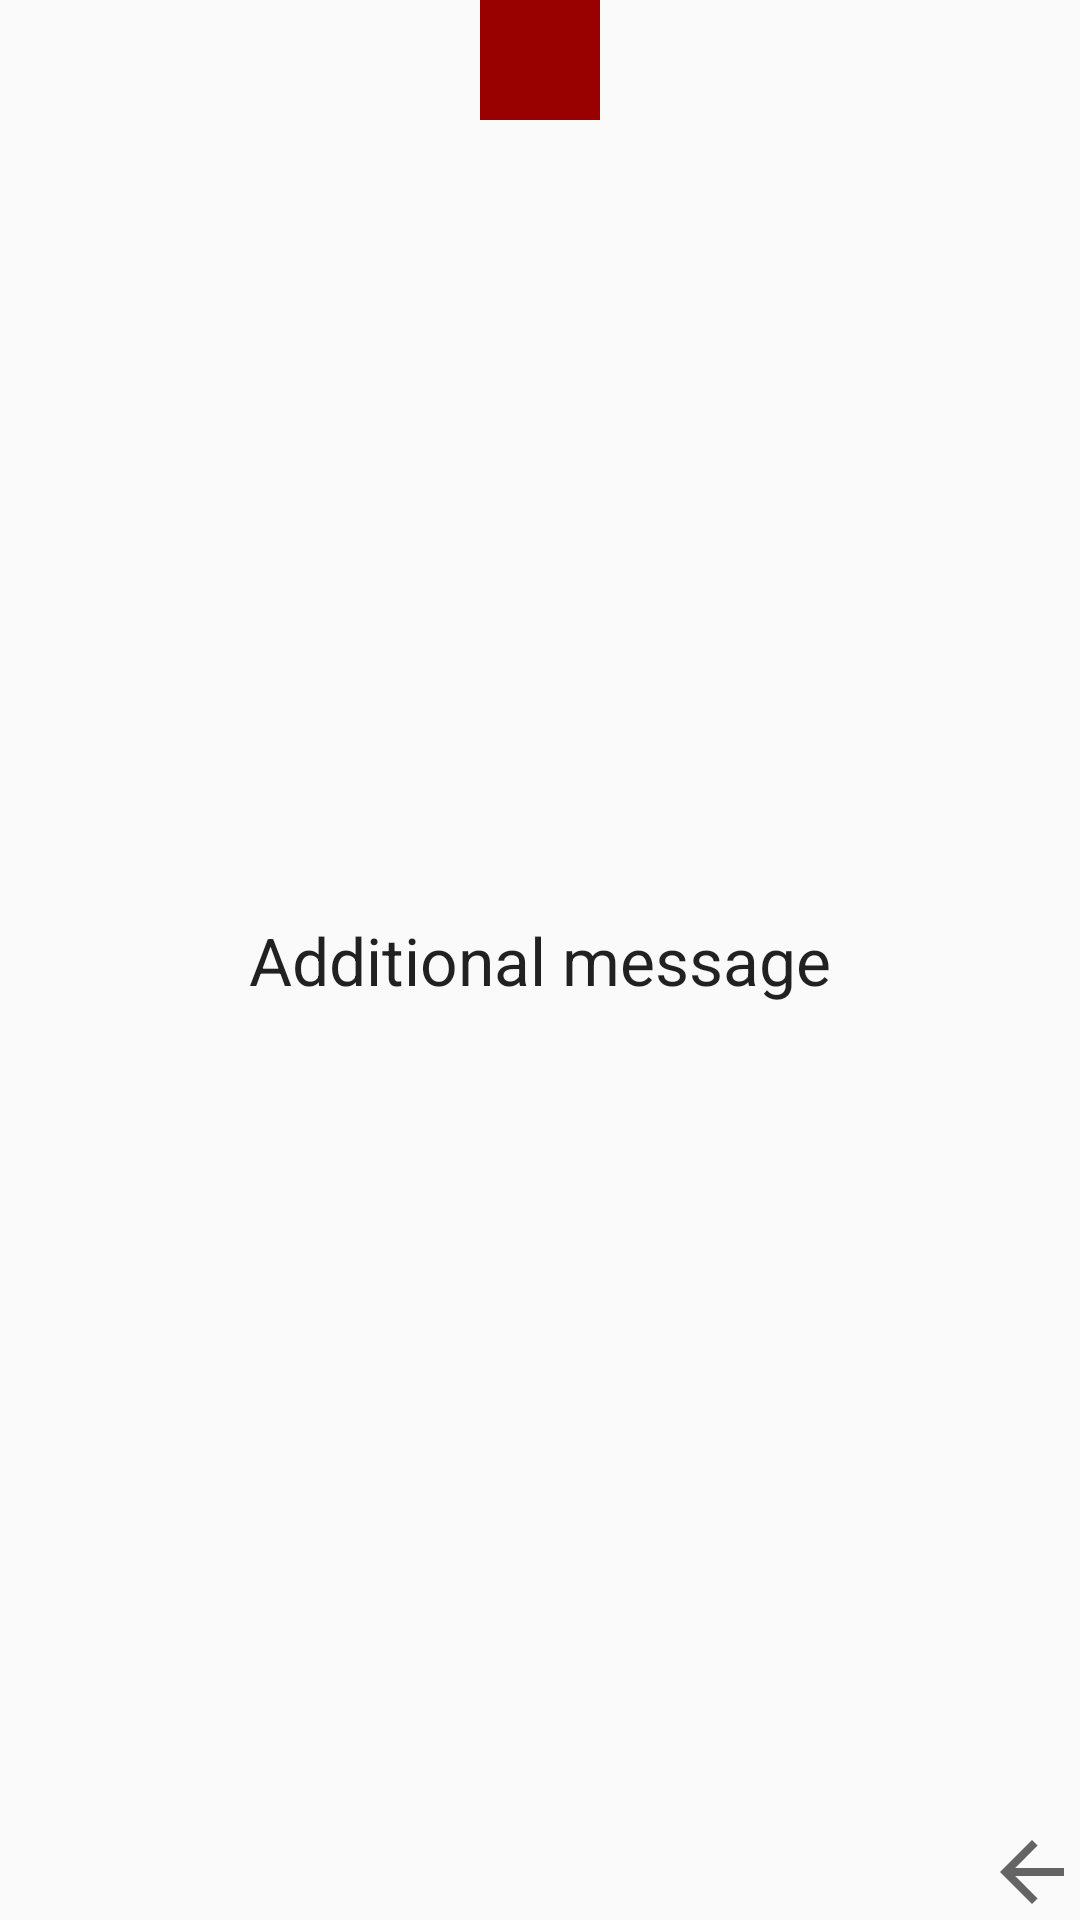

Screen size 1080×1920. Icon name, then its center in pixels as (x,y):
ab back: (1032,1872)
